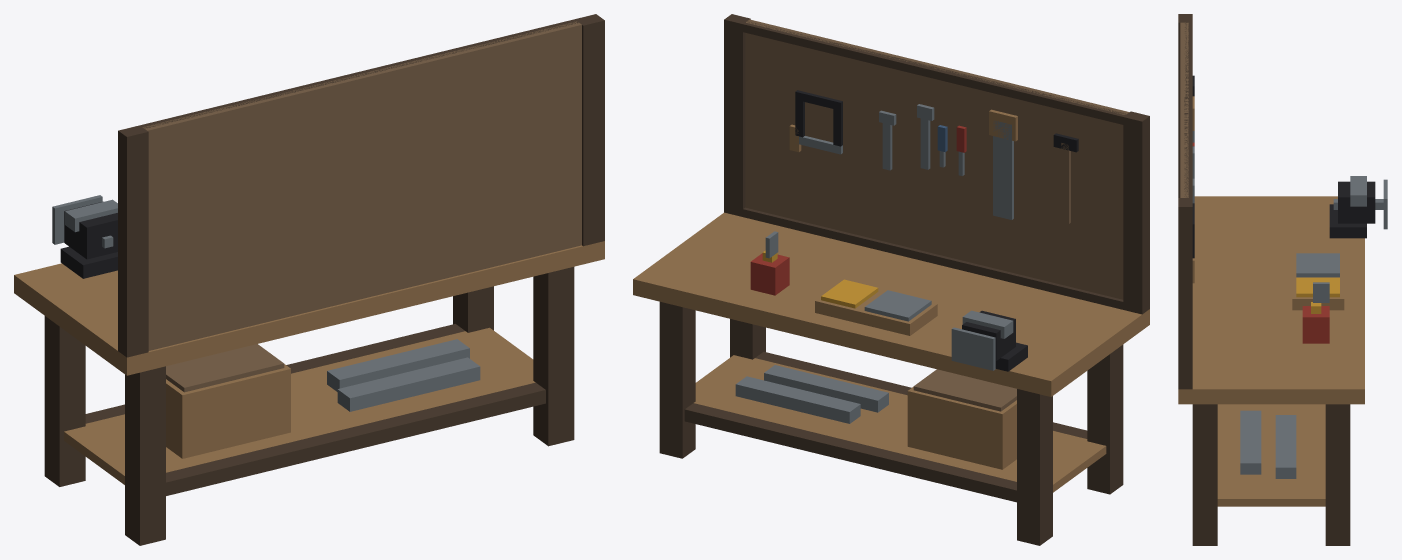
Rendered from camp_workshop_1.glb.
The picture shows the model from 3 angles, left to right: view 1: azimuth 30°, elevation 25°; view 2: azimuth 150°, elevation 25°; view 3: azimuth 270°, elevation 25°; orthographic projection. The views are drawn at different scales.
Visible parts, largest first — view 1: camp_workshop_1; view 2: camp_workshop_1; view 3: camp_workshop_1.
Boxes of the visible parts, x1,y1,x2,y2 form: camp_workshop_1: (14,14,604,545); camp_workshop_1: (633,14,1149,545); camp_workshop_1: (1178,14,1387,545).
Size of what is drawn, in the model's own units: 2.2 by 1.85 by 1.01.
1 material, 1 textured.
